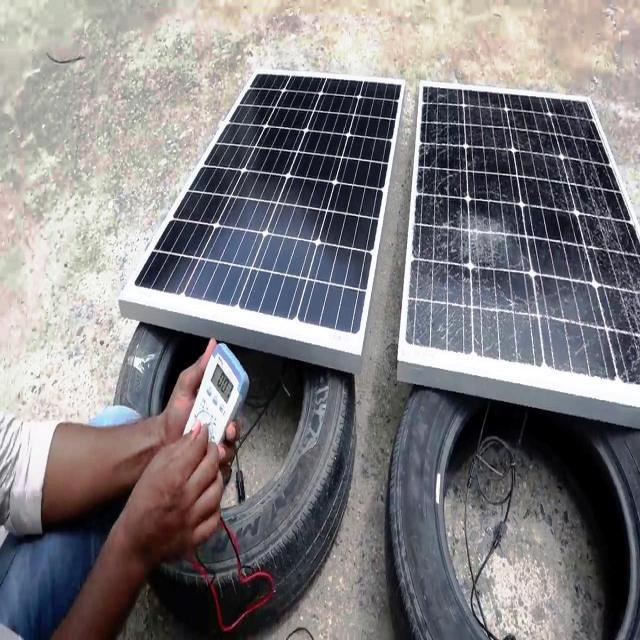faulty: (401, 80, 638, 372)
no faulty: (132, 70, 404, 356)
